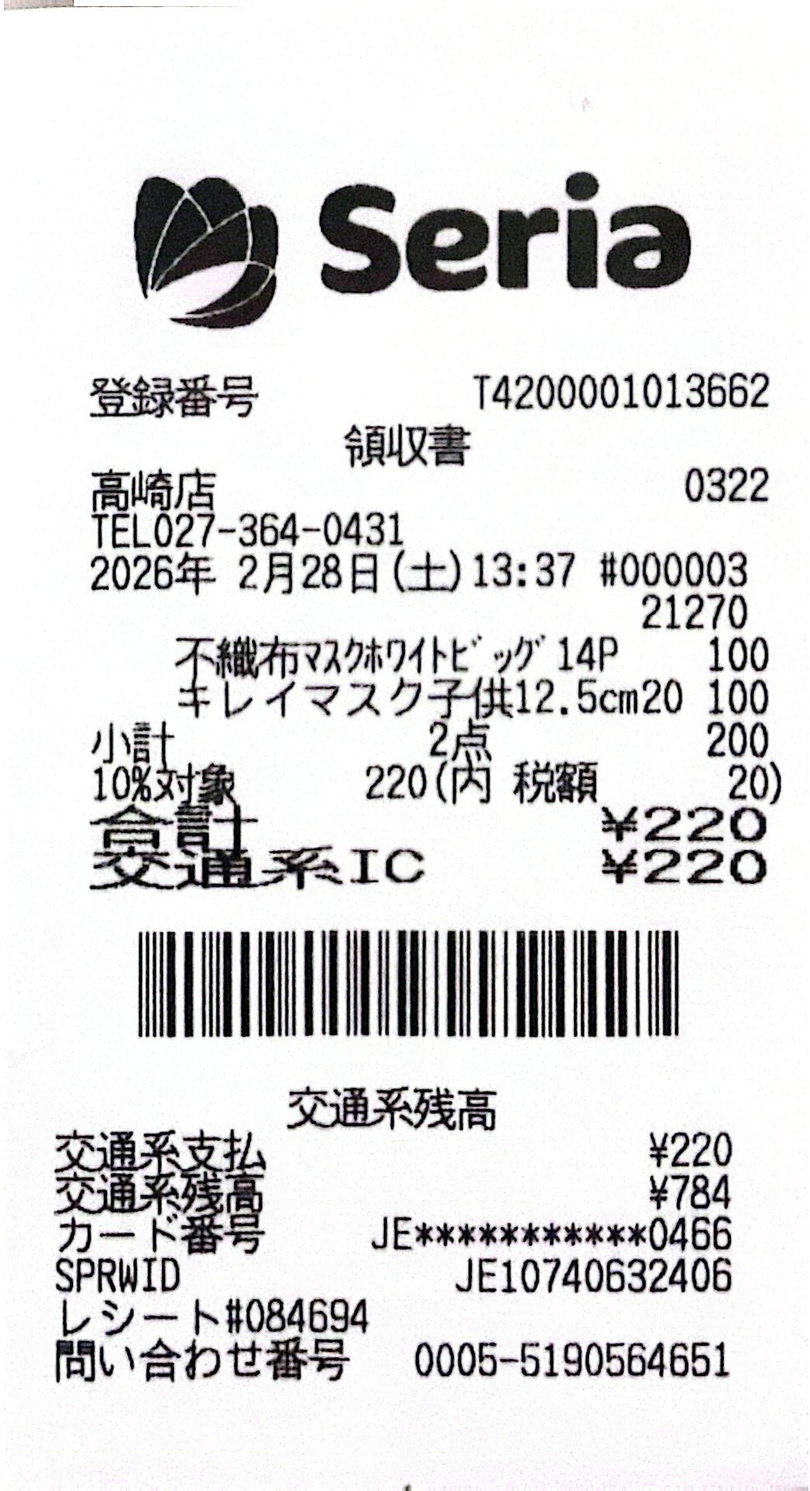Date: (90, 552, 378, 596)
Pay: (89, 804, 768, 848)
Shopname: (319, 170, 693, 294)
Telnum: (152, 512, 406, 546)
